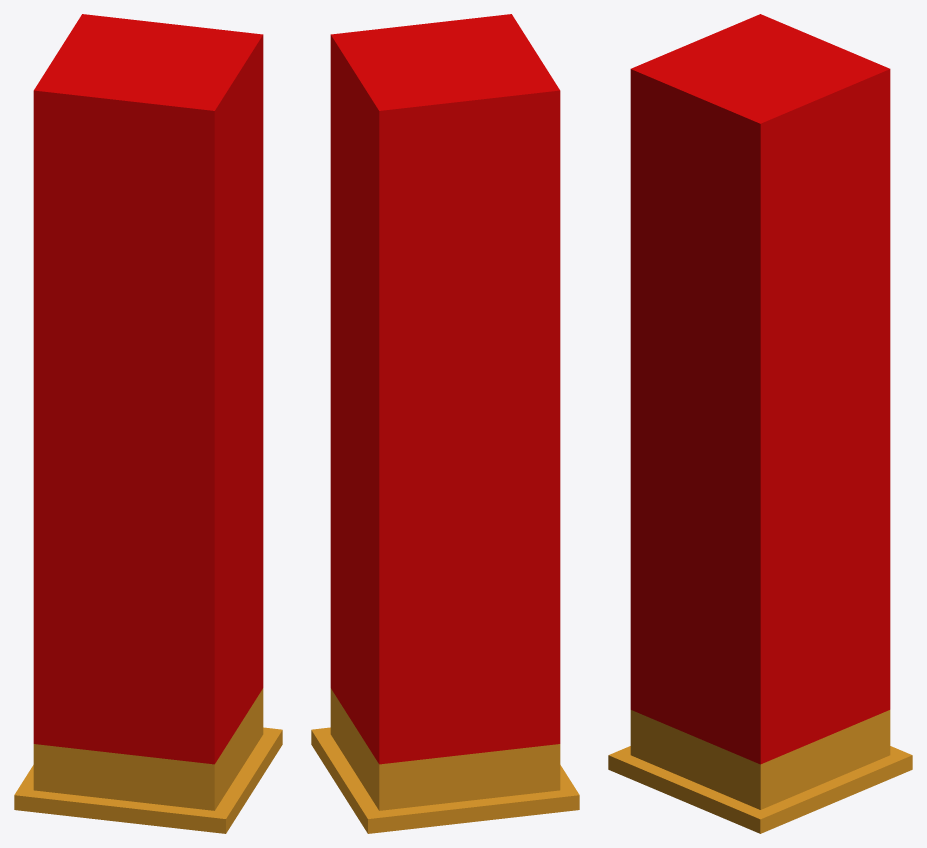
File: 12gauge.fbx
3 renders of one model, left to right at view 1: azimuth 30°, elevation 25°; view 2: azimuth 150°, elevation 25°; view 3: azimuth 270°, elevation 25°, orthographic.
Visible parts, largest first — view 1: Plane; view 2: Plane; view 3: Plane.
Boxes of the visible parts, x1=… form: Plane: x1=14, y1=14, x2=282, y2=833; Plane: x1=311, y1=14, x2=579, y2=833; Plane: x1=608, y1=14, x2=912, y2=833.
Size of the model in its own units: 283 by 719 by 283.
